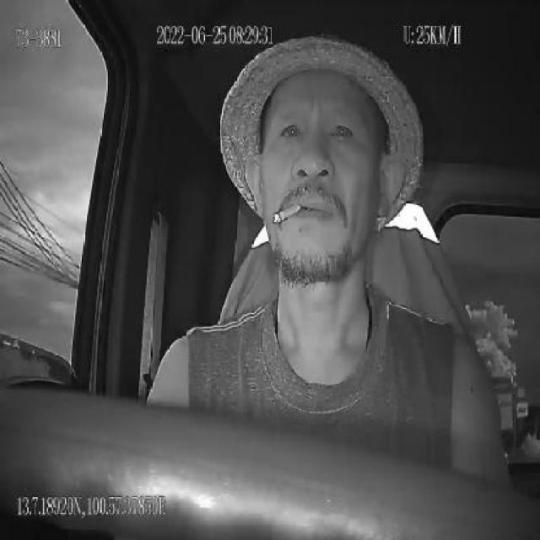smoking: (273, 199, 302, 225)
